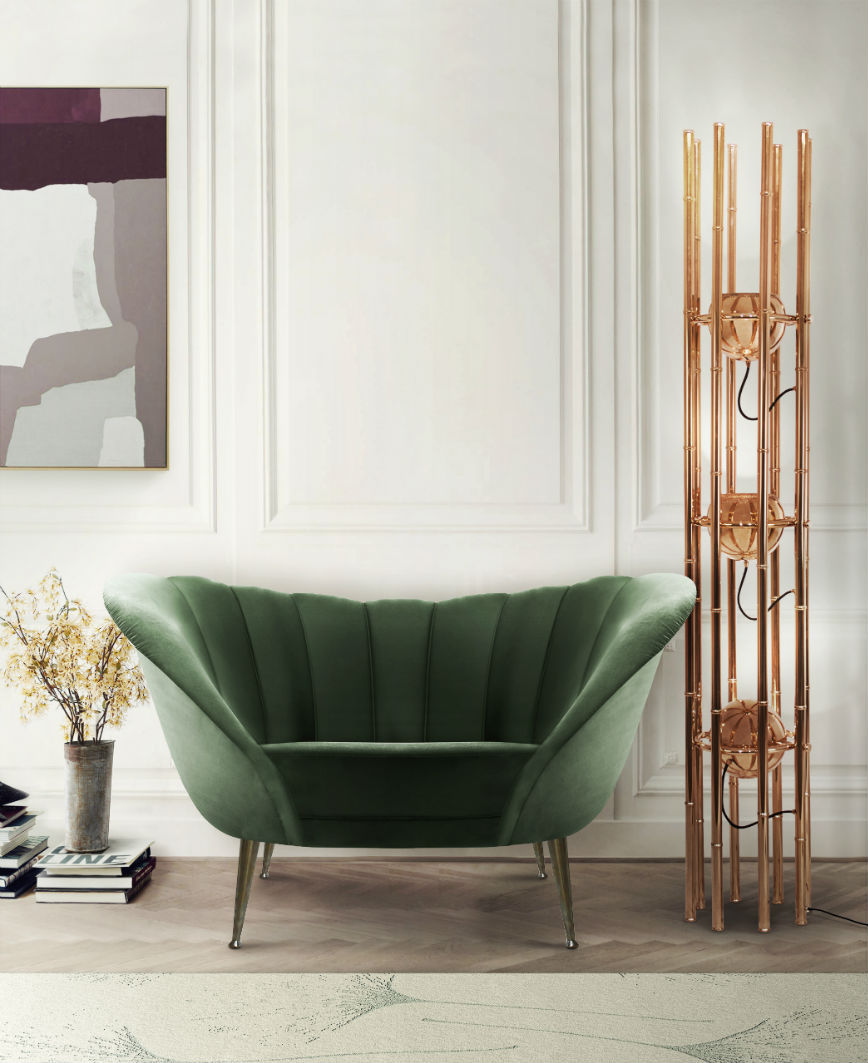chairs: (101, 563, 695, 966)
